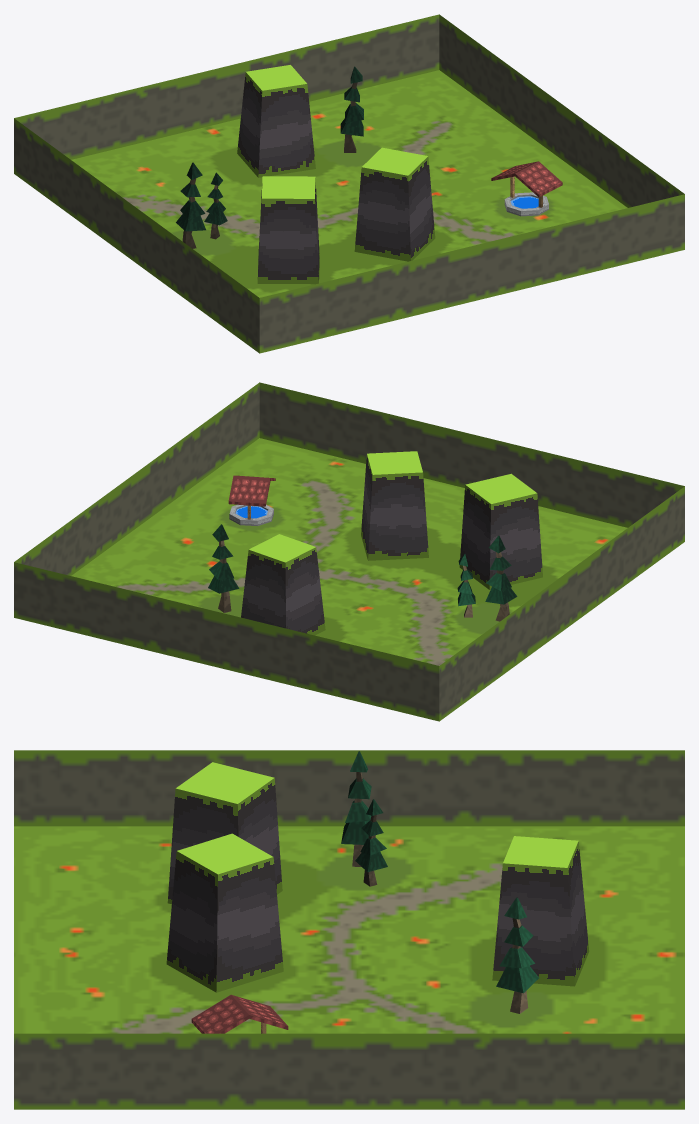
Rendered from terrain2.obj.
3 views of the same model, one above another, from view 1: azimuth 30°, elevation 25°; view 2: azimuth 150°, elevation 25°; view 3: azimuth 270°, elevation 25° (orthographic). The views are drawn at different scales.
Parts seen in each view (by area): view 1: Cube; view 2: Cube; view 3: Cube.
Part boxes in pixels (<box>): Cube: <box>14,14,684,353</box>; Cube: <box>14,382,684,721</box>; Cube: <box>14,750,684,1109</box>.
Size of the model in its own units: 1024 by 195 by 1024.
7 materials, 7 textured.
